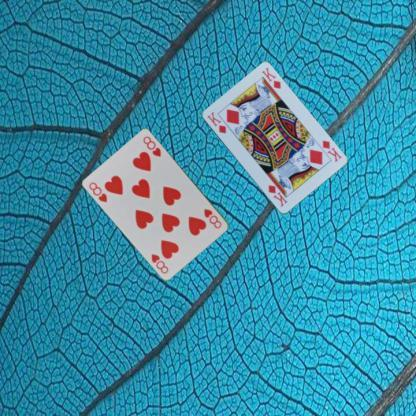8h: (202, 206, 224, 230), (86, 180, 108, 204)
Kd: (320, 137, 342, 163), (204, 110, 227, 134)
